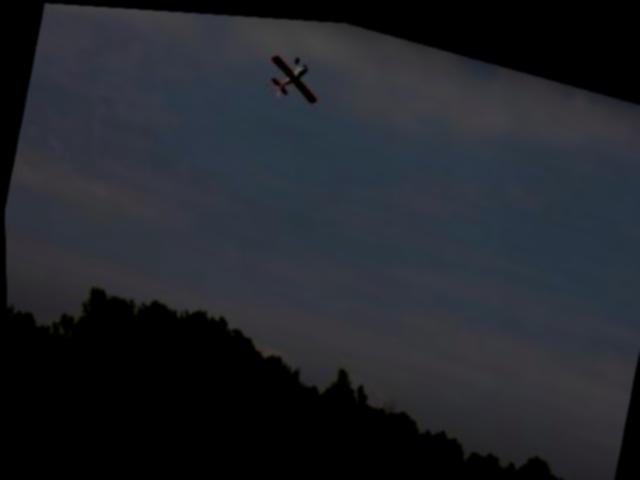uav: (254, 39, 331, 117)
